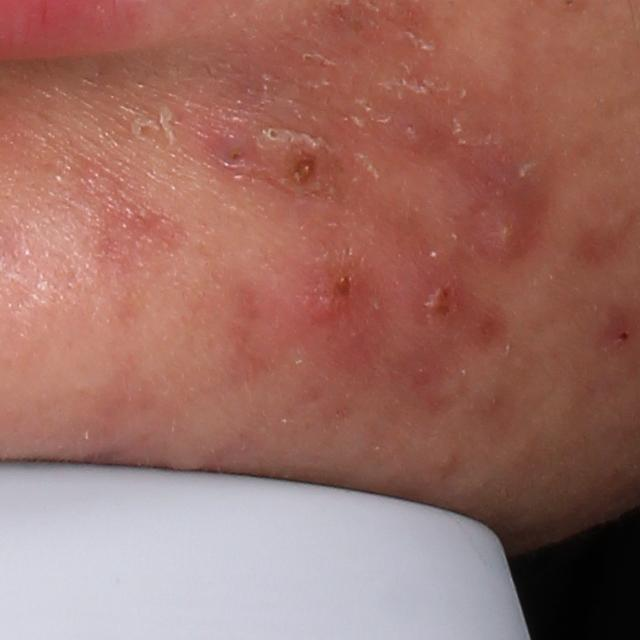comedo: (263, 122, 285, 144)
papule: (270, 235, 399, 375), (453, 119, 558, 279), (406, 254, 473, 335), (573, 194, 634, 263), (375, 97, 433, 160), (278, 138, 331, 199), (208, 118, 250, 169)
